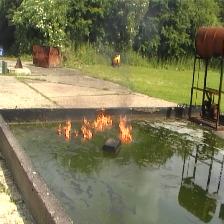fire_h: (84, 113, 112, 131), (119, 114, 133, 143)
fire_l: (57, 120, 71, 139), (81, 124, 92, 140), (74, 130, 79, 137)
